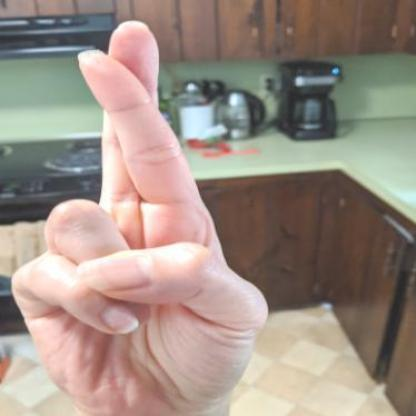R: (1, 13, 276, 415)
